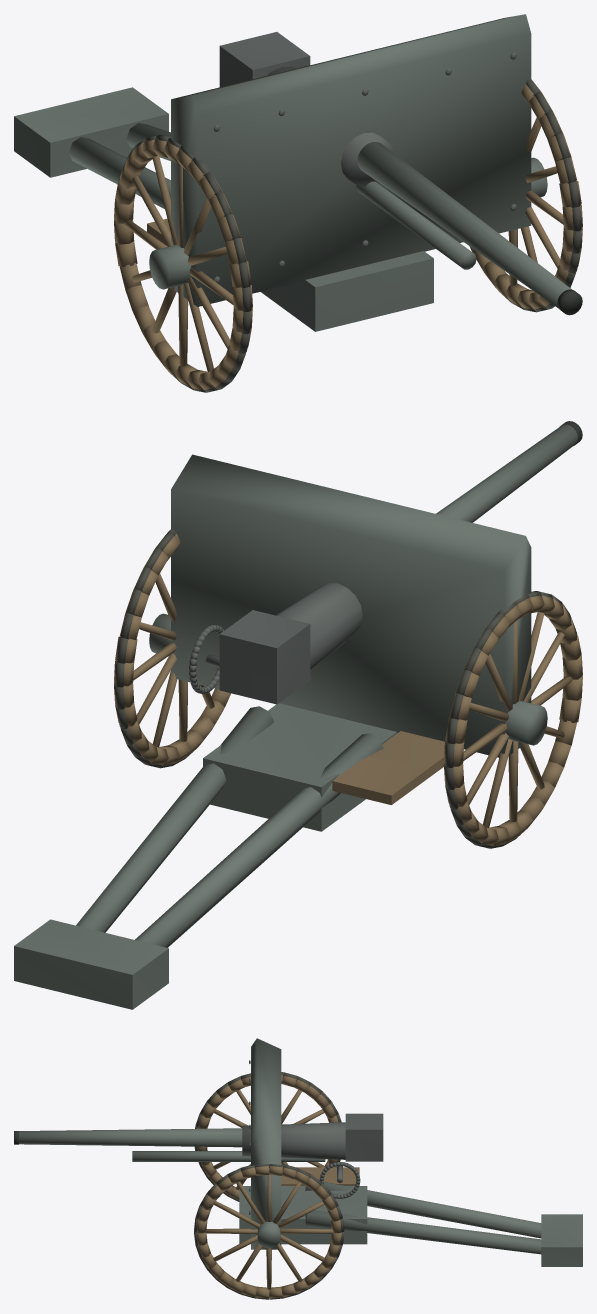
File: field-gun-77.glb
3 renders of one model, top to bottom at view 1: azimuth 30°, elevation 25°; view 2: azimuth 150°, elevation 25°; view 3: azimuth 270°, elevation 25°, orthographic. The views are drawn at different scales.
Visible parts, largest first — view 1: field-gun-77; view 2: field-gun-77; view 3: field-gun-77.
Part boxes in pixels (x1,y1,x2,y2): field-gun-77: [14, 14, 582, 392]; field-gun-77: [14, 421, 582, 1009]; field-gun-77: [14, 1038, 582, 1299].
Size of the model in its own units: 2.04 by 1.52 by 4.66.
